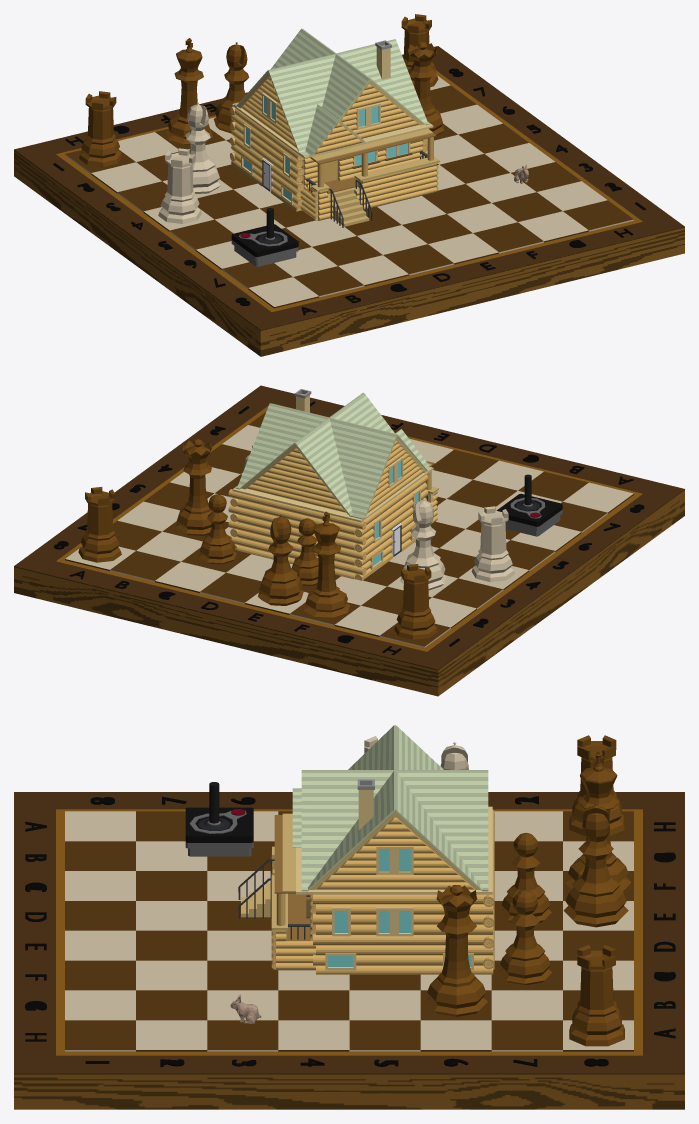
The picture shows the model from 3 angles, top to bottom: view 1: azimuth 30°, elevation 25°; view 2: azimuth 150°, elevation 25°; view 3: azimuth 270°, elevation 25°; orthographic projection. The views are drawn at different scales.
Parts seen in each view (by area): view 1: Cube.002, Cube.1516, OBJRANDOM_JOYSTICK; view 2: Cube.002, Cube.1516, OBJRANDOM_JOYSTICK; view 3: Cube.002, Cube.1516, OBJRANDOM_JOYSTICK.
Boxes of the visible parts, x1=… form: Cube.002: x1=14, y1=14, x2=684, y2=356; Cube.1516: x1=230, y1=28, x2=439, y2=227; OBJRANDOM_JOYSTICK: x1=231, y1=208, x2=298, y2=266; Cube.002: x1=14, y1=385, x2=684, y2=696; Cube.1516: x1=228, y1=389, x2=438, y2=580; OBJRANDOM_JOYSTICK: x1=496, y1=474, x2=562, y2=536; Cube.002: x1=14, y1=735, x2=684, y2=1109; Cube.1516: x1=238, y1=725, x2=494, y2=974; OBJRANDOM_JOYSTICK: x1=185, y1=782, x2=253, y2=856.
Size of the model in its own units: 3981 by 1484 by 4012.
Materials: 39 (3 with a texture image).
